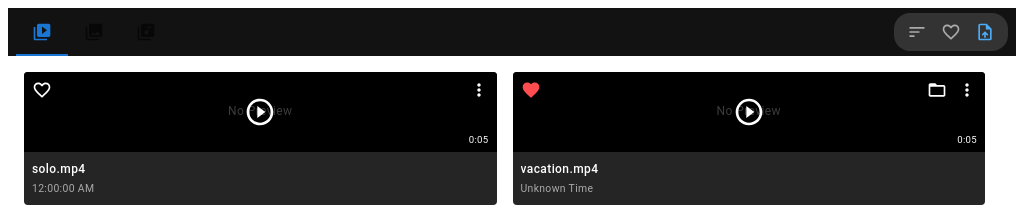
AssetBrowser Component › filters the current tab to favourite assets when the toolbar heart is enabled
Expected: the text "vacation.mp4" is shown, [520,162,598,176]
Expected: the text "solo.mp4" is shown, [32,162,86,176]
Click the button named "Show favourite assets" at (951, 32), box [936,17,966,47]
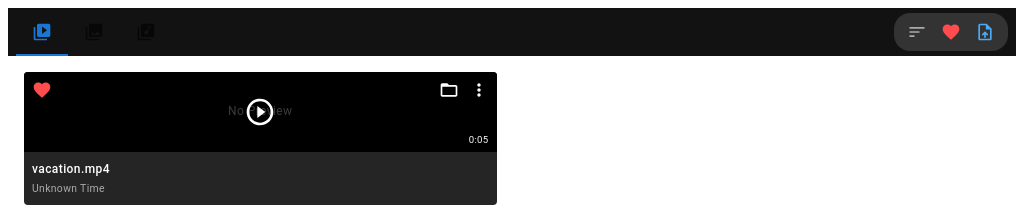
Expected: the text "vacation.mp4" is shown, [32,162,110,176]
Expected: the button "solo.mp4" is gone
